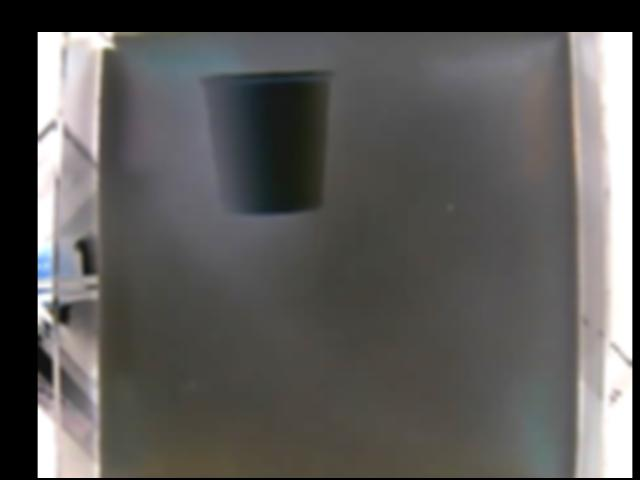Cup: (198, 69, 337, 217)
